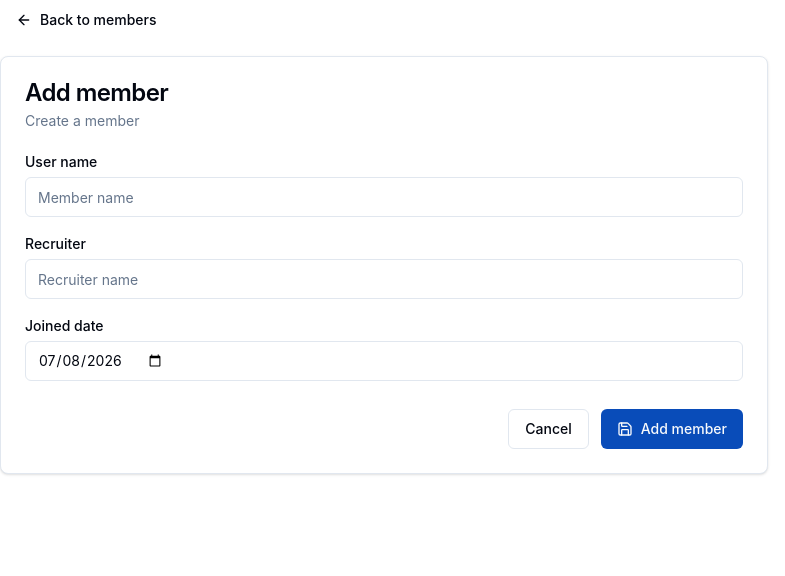
it: member forms › renders add member textboxes and shows validation when required fields are empty
This screenshot has width=785, height=576.
Expected: the field labelled "User name" is empty, top-left (25, 177), bottom-right (743, 217)
Expected: the field labelled "Recruiter" is empty, top-left (25, 259), bottom-right (743, 299)
Clear the date field labelled "Joined date". click: (384, 361)
box: top-left (25, 341), bottom-right (743, 381)
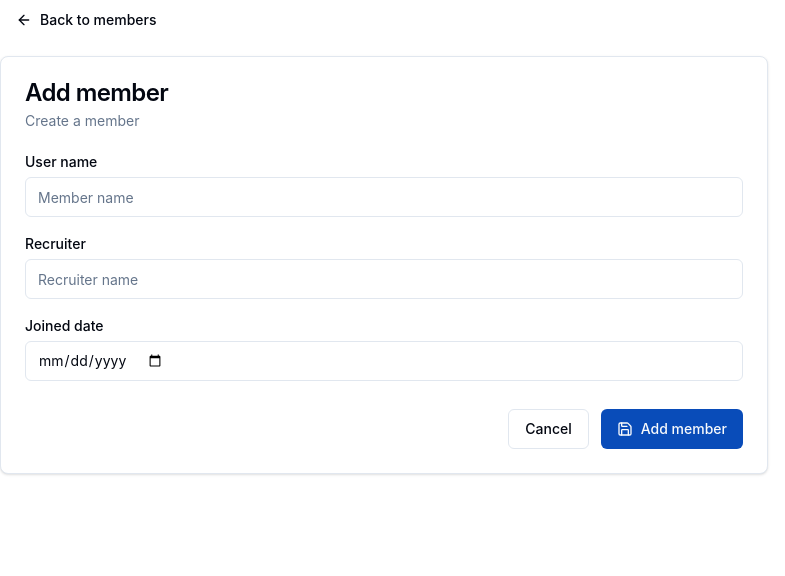
Submit the form "Add member", box top-left (25, 155), bottom-right (743, 449)
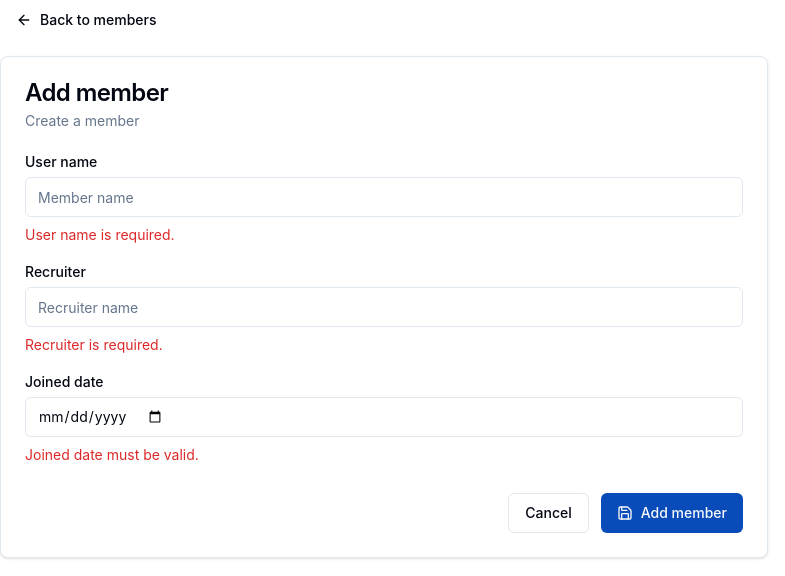
Result: the text "User name is required." is shown at top-left (25, 226), bottom-right (175, 243)
Result: the text "Recruiter is required." is shown at top-left (25, 336), bottom-right (163, 353)
Result: the text "Joined date must be valid." is shown at top-left (25, 446), bottom-right (199, 463)
